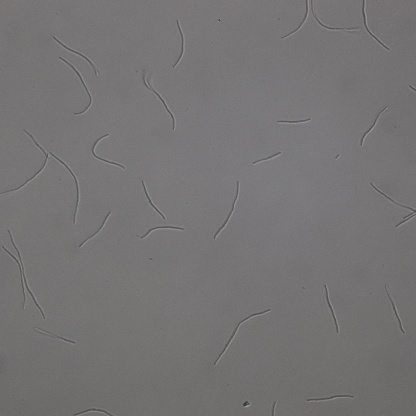Sensitive: (3, 231, 45, 317), (3, 128, 49, 195), (215, 310, 270, 363), (52, 153, 80, 224), (371, 183, 416, 226), (142, 72, 175, 129), (61, 57, 92, 115), (54, 36, 99, 75), (214, 181, 240, 237), (312, 1, 358, 31), (362, 1, 389, 49), (91, 134, 125, 169), (80, 213, 110, 246), (361, 106, 387, 144), (282, 1, 309, 37), (384, 286, 403, 333), (142, 181, 164, 218), (34, 327, 76, 343), (173, 19, 187, 66), (141, 224, 187, 238), (325, 285, 338, 332), (306, 392, 355, 402), (72, 408, 110, 416), (254, 151, 280, 162), (278, 117, 311, 123)
